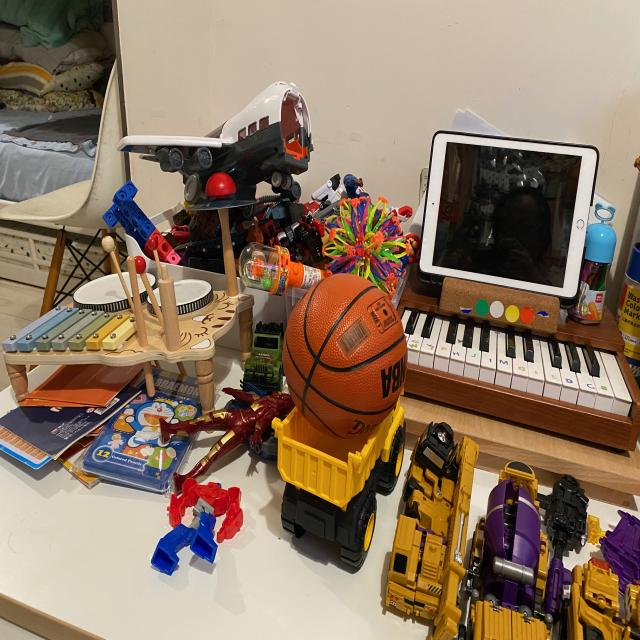Ball: (275, 261, 414, 449)
